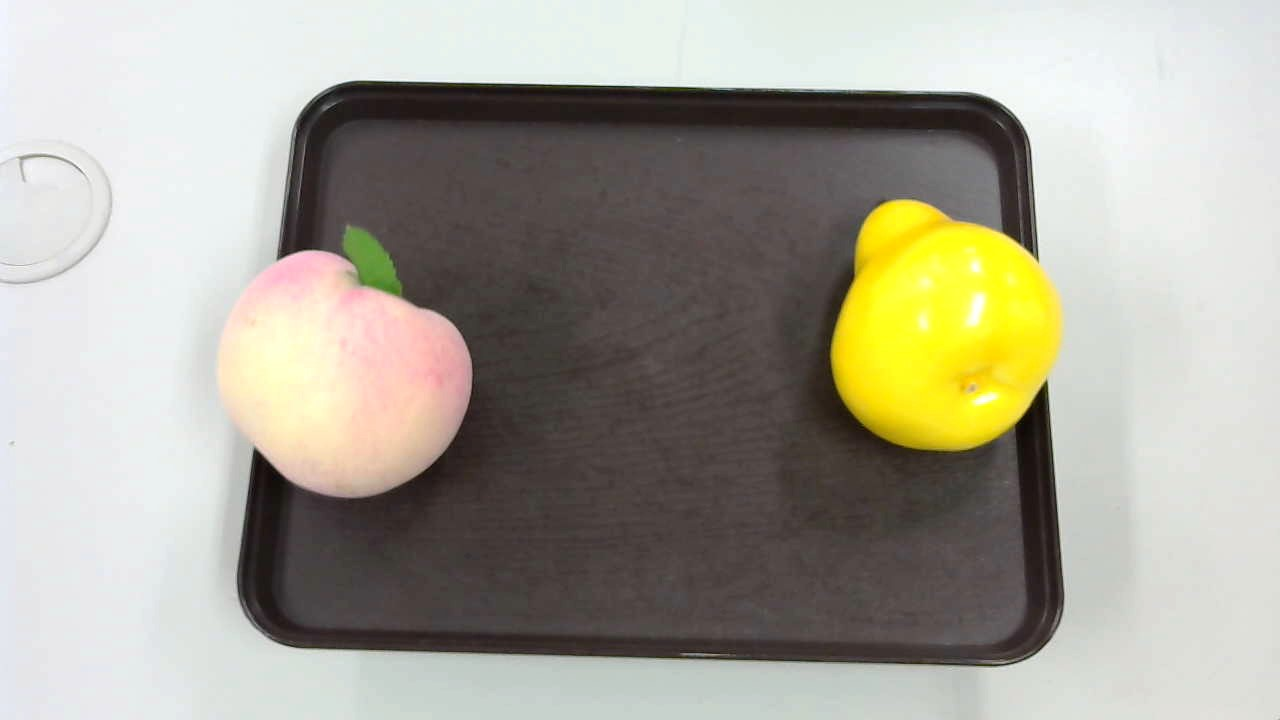peach: (216, 221, 479, 497)
yellow pear: (824, 184, 1065, 460)
